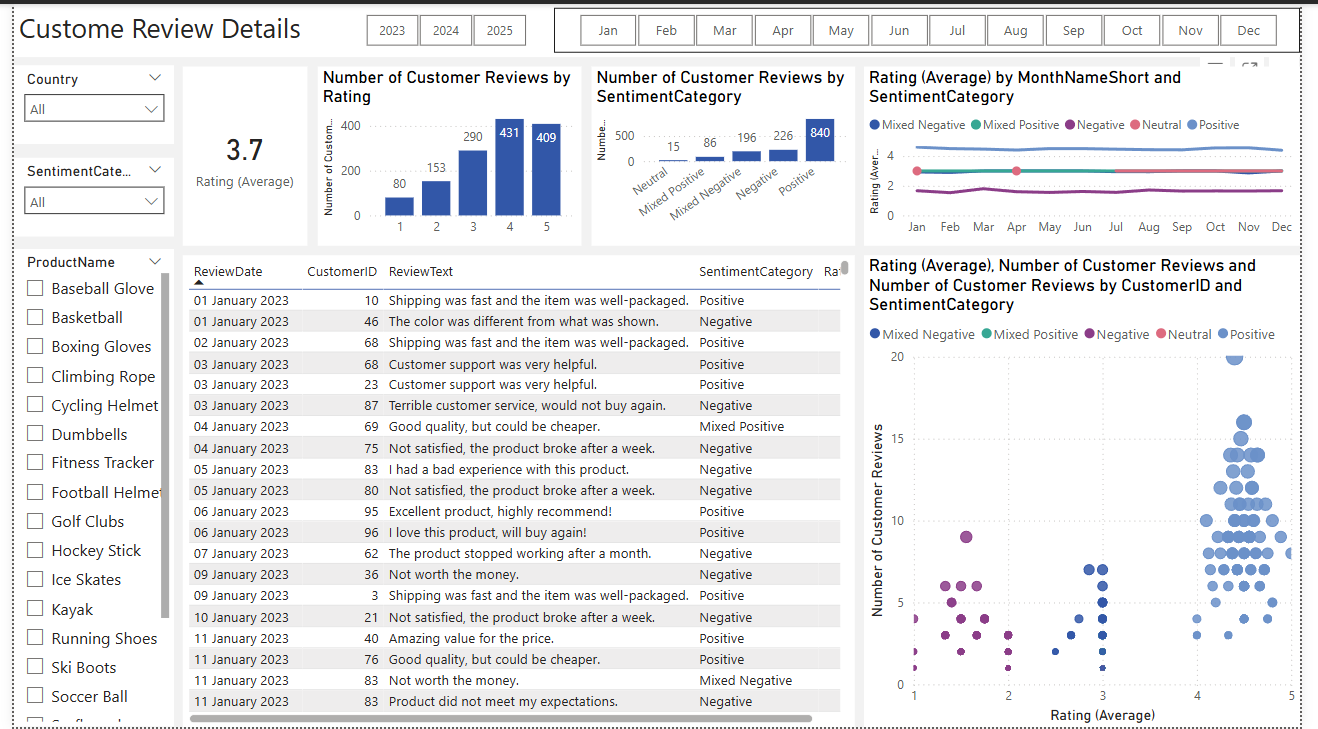

What the dashboard file says about the page in this screenshot:
{"tool":"powerbi","page":{"name":"Customer Review Details","canvas":[1280,720],"ordinal":3},"visuals":[{"type":"textbox","box":[0,0,1280,52.6],"z":0},{"type":"slicer","fields":{"Values":["dim_products.ProductName"]},"box":[0,244.2,159.3,475.3],"z":1000},{"type":"card","fields":{"Values":["_Calculations.Rating (Average)"]},"box":[168.5,61.9,123.8,178.5],"z":2000},{"type":"slicer","fields":{"Values":["Calendar.MonthNameShort"]},"box":[536.8,4.1,743.2,44.4],"z":3000},{"type":"lineChart","fields":{"Category":["Calendar.MonthNameShort"],"Y":["_Calculations.Rating (Average)"],"Series":["fact_customer_reviews_with_sentiment.SentimentCategory"]},"box":[846.2,62,434.1,178.4],"z":4000},{"type":"slicer","fields":{"Values":["Calendar.Year"]},"box":[324.1,4.1,208.5,44.4],"z":5000},{"type":"tableEx","fields":{"Values":["fact_customer_reviews_with_sentiment.ReviewDate","fact_customer_reviews_with_sentiment.CustomerID","fact_customer_reviews_with_sentiment.ReviewText","fact_customer_reviews_with_sentiment.SentimentCategory","Sum(fact_customer_reviews_with_sentiment.Rating)"]},"box":[168.5,249.5,668.4,470.8],"z":6000},{"type":"columnChart","fields":{"Category":["fact_customer_reviews_with_sentiment.Rating"],"Y":["_Calculations.Number of Customer Reviews"]},"box":[302.4,62,262.4,178.4],"z":7000},{"type":"columnChart","fields":{"Category":["fact_customer_reviews_with_sentiment.SentimentCategory"],"Y":["_Calculations.Number of Customer Reviews"]},"box":[574.3,62,262.4,178.4],"z":8000},{"type":"slicer","fields":{"Values":["dim_customers.Country"]},"box":[0,61.4,159.3,78.3],"z":9000},{"type":"slicer","fields":{"Values":["fact_customer_reviews_with_sentiment.SentimentCategory"]},"box":[0,152.8,159.3,78.3],"z":10000},{"type":"scatterChart","fields":{"Category":["dim_customers.CustomerID"],"Series":["fact_customer_reviews_with_sentiment.SentimentCategory"],"X":["_Calculations.Rating (Average)"],"Y":["_Calculations.Number of Customer Reviews"],"Size":["_Calculations.Number of Customer Reviews"]},"box":[846,249.5,434.4,470.8],"z":11000}]}

Visuals, with their boxes in screenshot pixels (x1, y1, x2, y2), scaled from the page's 1280x720 canvas onto the 1318x729 screenshot:
textbox: [0,0,1317,53]
slicer - dim_products.ProductName: [0,247,164,728]
card - _Calculations.Rating (Average): [174,63,301,243]
slicer - Calendar.MonthNameShort: [553,4,1317,49]
lineChart - Calendar.MonthNameShort x _Calculations.Rating (Average): [871,63,1317,243]
slicer - Calendar.Year: [334,4,548,49]
tableEx - fact_customer_reviews_with_sentiment.ReviewDate x fact_customer_reviews_with_sentiment.CustomerID: [174,253,862,728]
columnChart - fact_customer_reviews_with_sentiment.Rating x _Calculations.Number of Customer Reviews: [311,63,582,243]
columnChart - fact_customer_reviews_with_sentiment.SentimentCategory x _Calculations.Number of Customer Reviews: [591,63,862,243]
slicer - dim_customers.Country: [0,62,164,141]
slicer - fact_customer_reviews_with_sentiment.SentimentCategory: [0,155,164,234]
scatterChart - dim_customers.CustomerID x fact_customer_reviews_with_sentiment.SentimentCategory: [871,253,1317,728]
